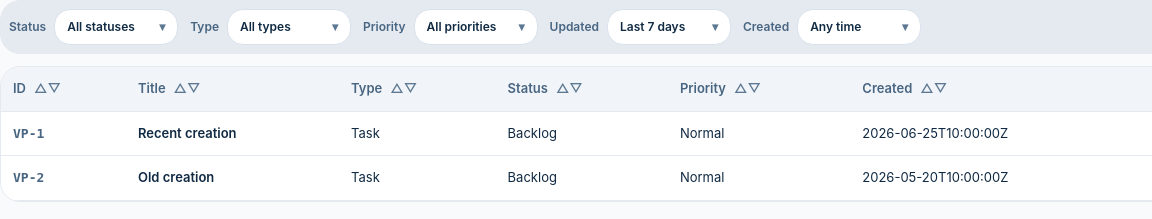
Test: ItemListView › filters rows by created time range
Click the button with aria-label "Created:" at coordinates (859, 27), box [797,9,921,45]
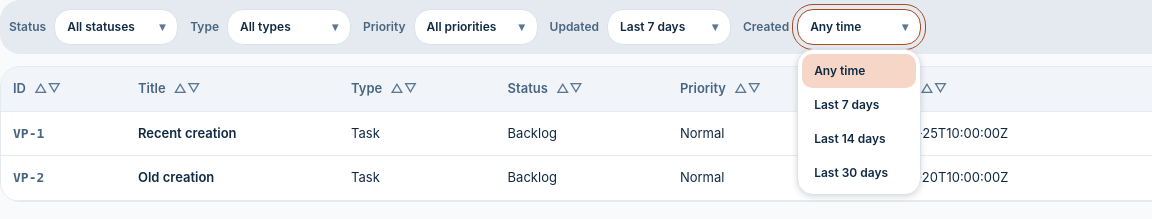
Click the option "Last 7 days" at coordinates (859, 105), box [802,88,916,122]
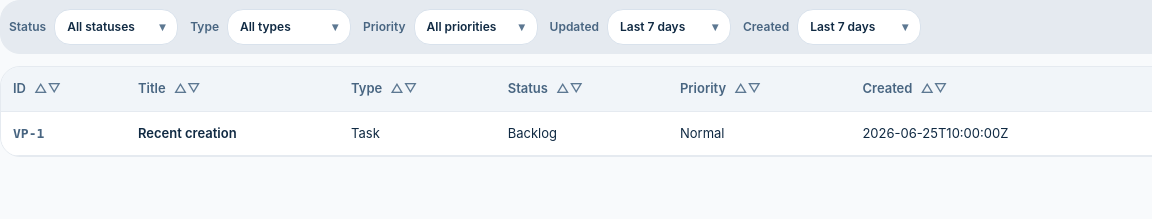
Expected: the button "Recent creation" is shown, [138,124,237,143]
Expected: the button "Old creation" is gone
